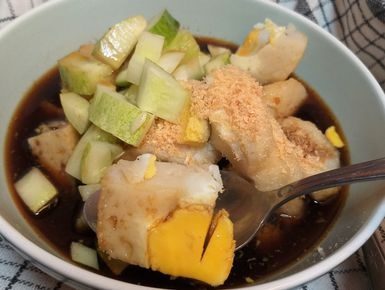pempek: (36, 29, 345, 264)
